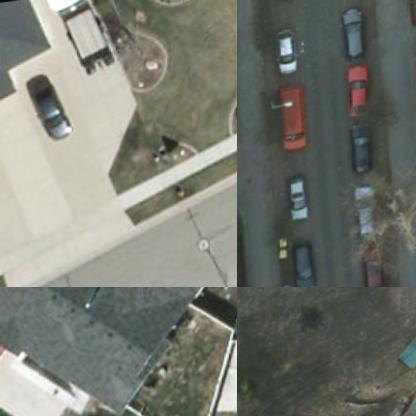car: (27, 82, 70, 146), (348, 188, 378, 243), (341, 63, 368, 121), (346, 126, 373, 178), (336, 5, 360, 60), (270, 23, 294, 75), (358, 248, 386, 286), (284, 173, 303, 221), (290, 239, 308, 286)
van: (274, 87, 304, 156)
